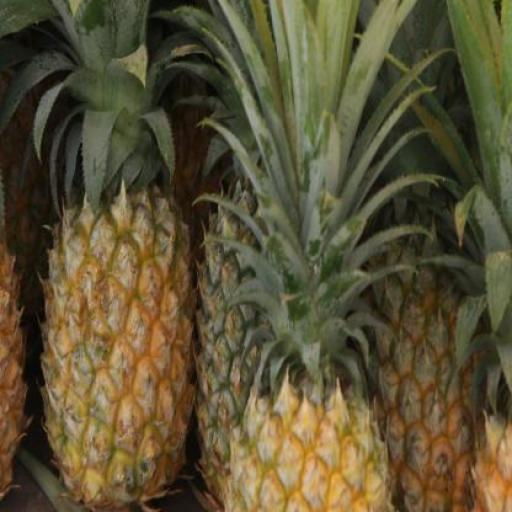------------------------------: (43, 197, 187, 503)
Pineapple - v8 v1: (225, 365, 386, 512)
